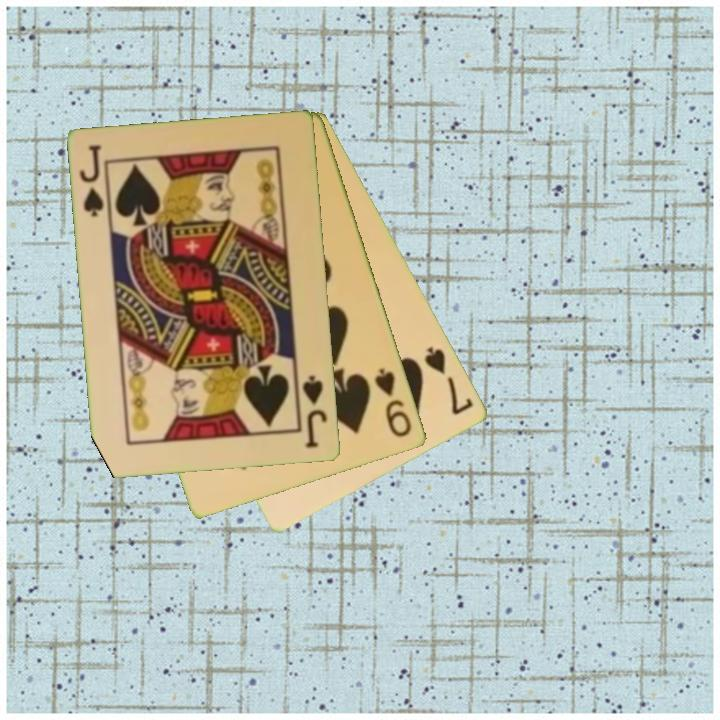7s: (421, 343, 476, 418)
9s: (371, 365, 415, 441)
Js: (77, 141, 111, 221), (300, 372, 331, 452)
